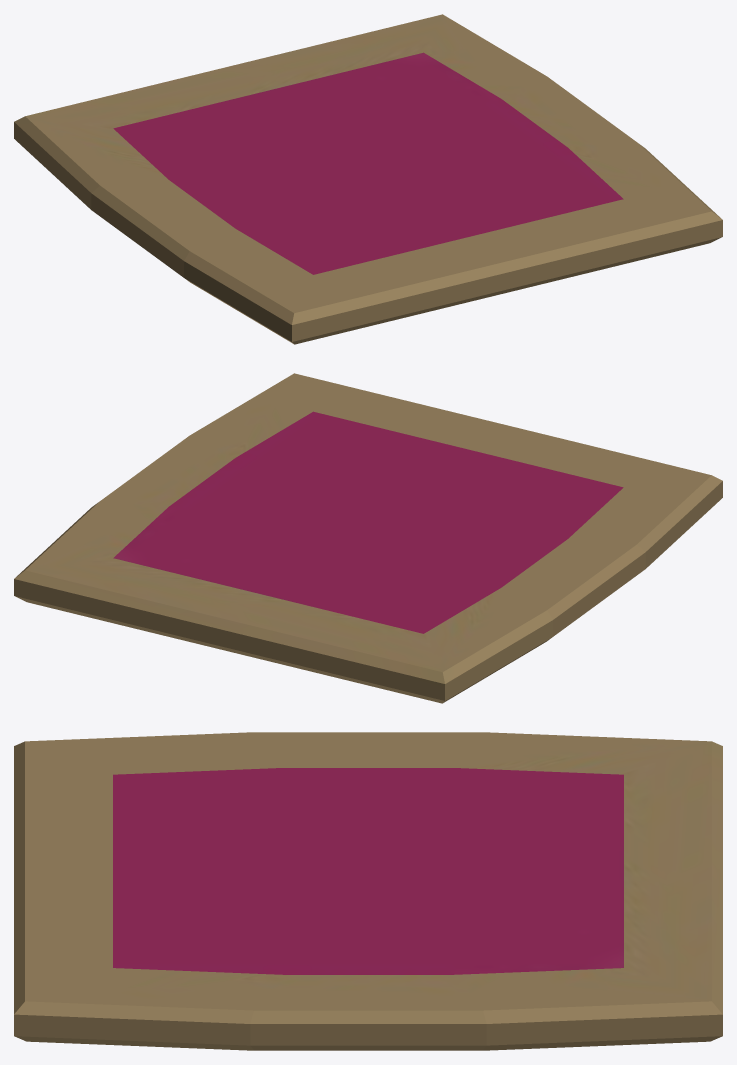
The model's file is carpet.fbx.
3 renders of one model, top to bottom at view 1: azimuth 30°, elevation 25°; view 2: azimuth 150°, elevation 25°; view 3: azimuth 270°, elevation 25°, orthographic. The views are drawn at different scales.
Parts seen in each view (by area): view 1: carpet; view 2: carpet; view 3: carpet.
Boxes of the visible parts, x1,y1,x2,y2 form: carpet: [14, 14, 722, 344]; carpet: [14, 373, 722, 703]; carpet: [14, 732, 722, 1050].
Size of the model in its own units: 214 by 14.21 by 223.
